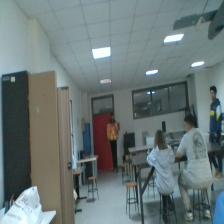fire-poster: (108, 124, 118, 139)
